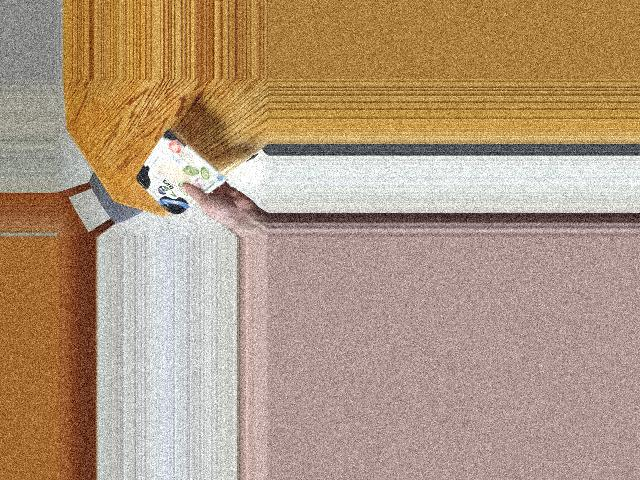cheese: (138, 142, 218, 203)
